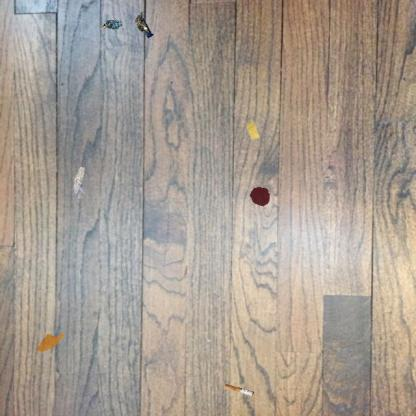dirty: (134, 10, 156, 40), (72, 165, 89, 200), (222, 381, 255, 398), (244, 119, 261, 142), (98, 17, 124, 32)
liquid: (36, 332, 64, 353), (248, 186, 271, 207)
